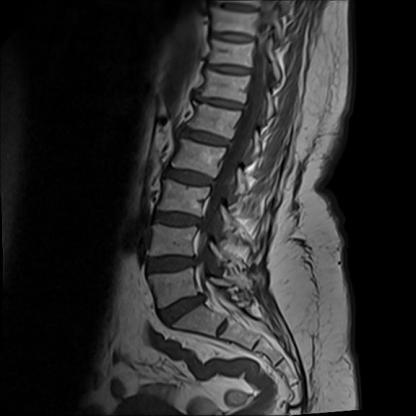Disc Bulgerotation: (154, 291, 215, 326)
Disc Relaxationrotation: (143, 249, 202, 278), (161, 164, 219, 189), (151, 209, 204, 234)
